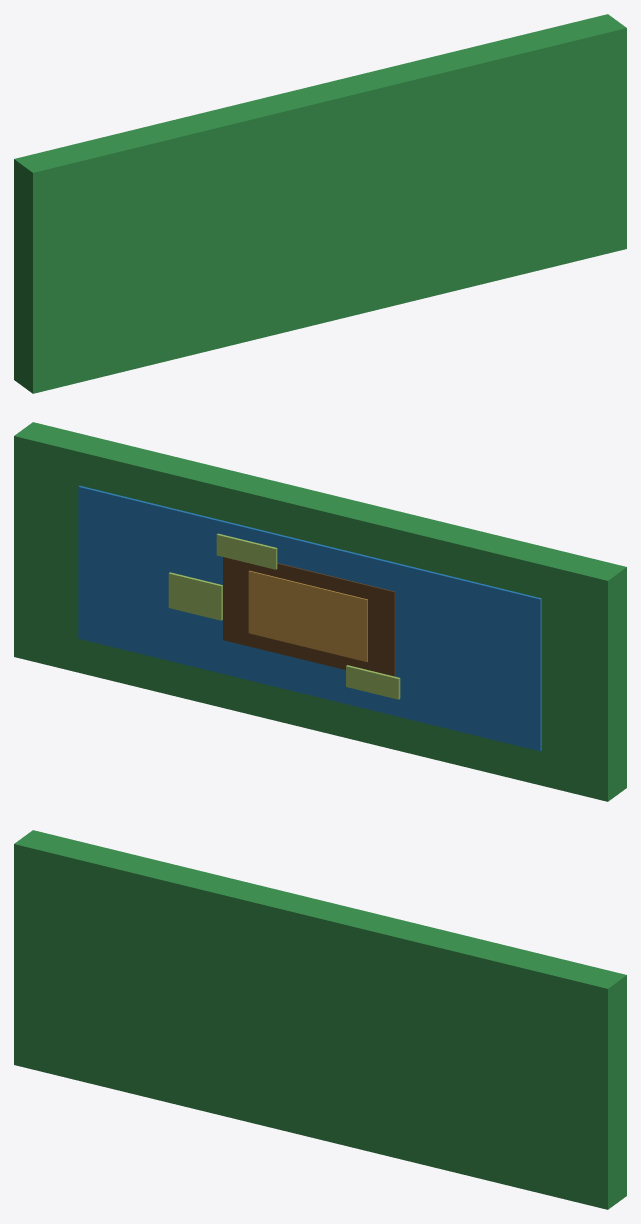
The model's file is sn_greenturtle.glb.
3 renders of one model, top to bottom at view 1: azimuth 30°, elevation 25°; view 2: azimuth 150°, elevation 25°; view 3: azimuth 330°, elevation 25°, orthographic.
Parts seen in each view (by area): view 1: sn_greenturtle_lod0; view 2: sn_greenturtle_lod0; view 3: sn_greenturtle_lod0.
Part boxes in pixels (x1=…): sn_greenturtle_lod0: x1=14, y1=14, x2=626, y2=393; sn_greenturtle_lod0: x1=14, y1=422, x2=626, y2=801; sn_greenturtle_lod0: x1=14, y1=830, x2=626, y2=1209.
Size of what is drawn, in the model's own units: 9 by 3.2 by 0.6394.
